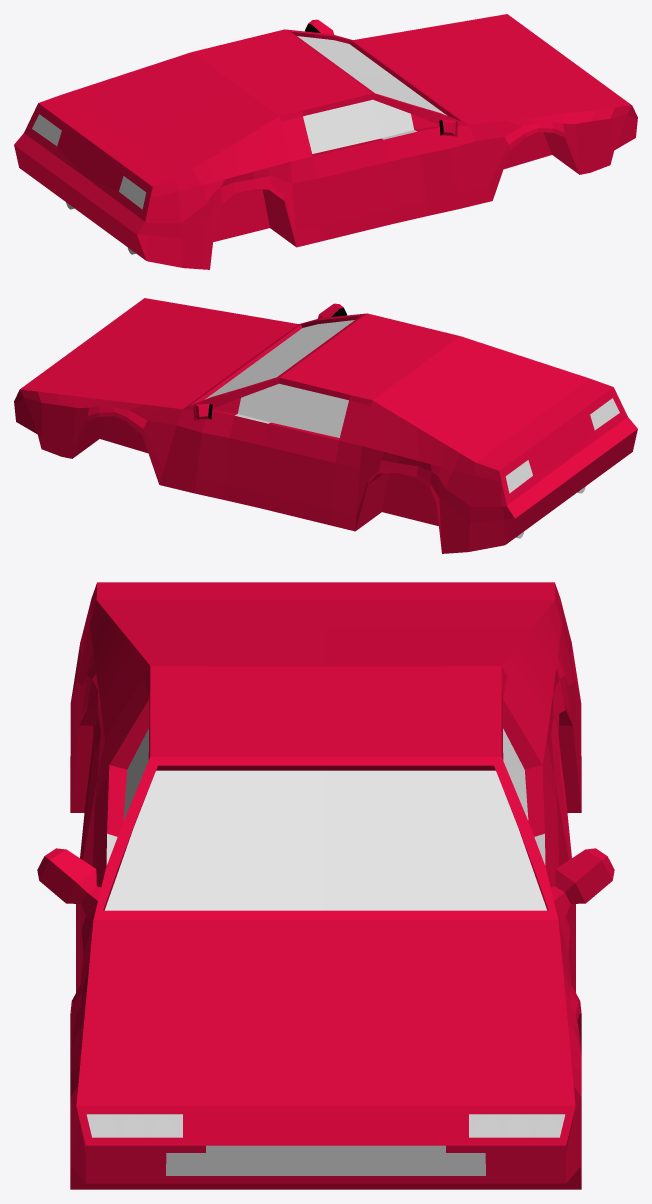
Rendered from Sportscar.fbx.
3 views of the same model, one above another, from view 1: azimuth 30°, elevation 25°; view 2: azimuth 150°, elevation 25°; view 3: azimuth 270°, elevation 25° (orthographic). The views are drawn at different scales.
Visible parts, largest first — view 1: Sports-Car; view 2: Sports-Car; view 3: Sports-Car.
Boxes of the visible parts, bbox=[...] form: Sports-Car: bbox=[14, 14, 637, 269]; Sports-Car: bbox=[14, 298, 637, 553]; Sports-Car: bbox=[37, 582, 614, 1189].
Bounding box in the file's own units: 1347 × 300 × 670.
